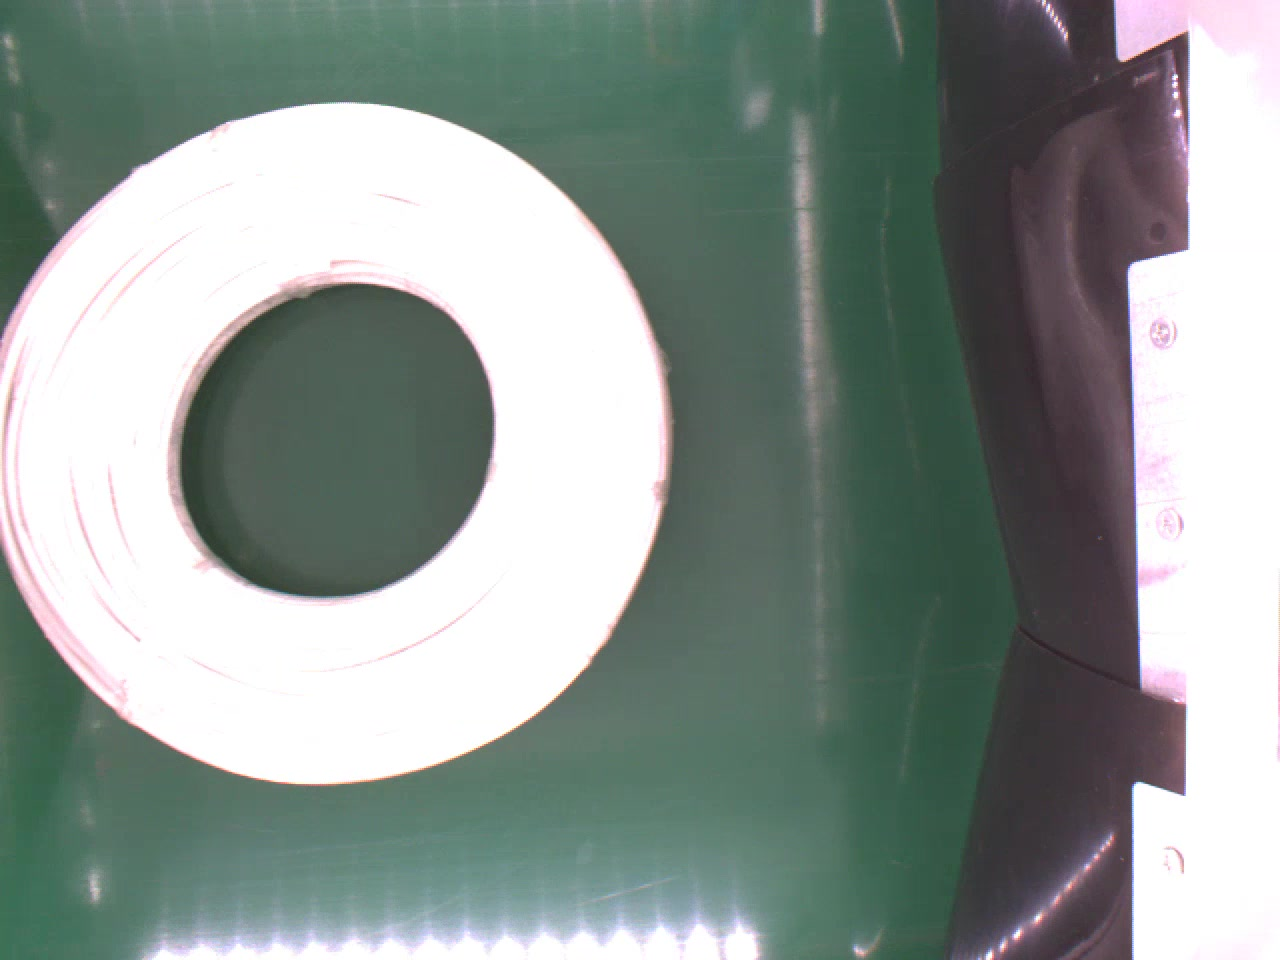white: (0, 97, 674, 789)
